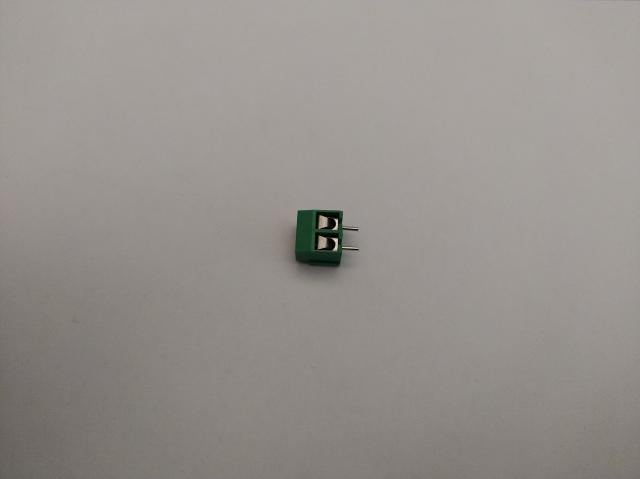terminal_block: (295, 210, 359, 266)
